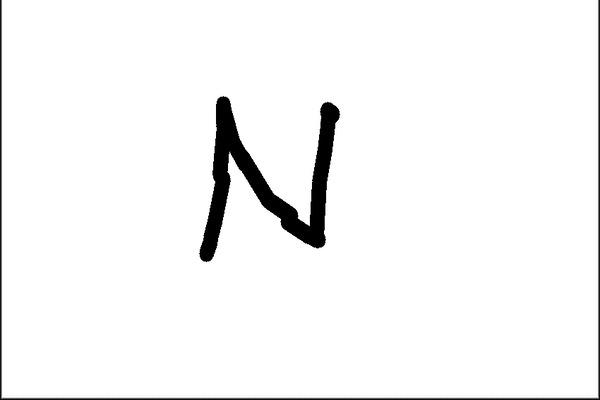N: (196, 88, 344, 265)
